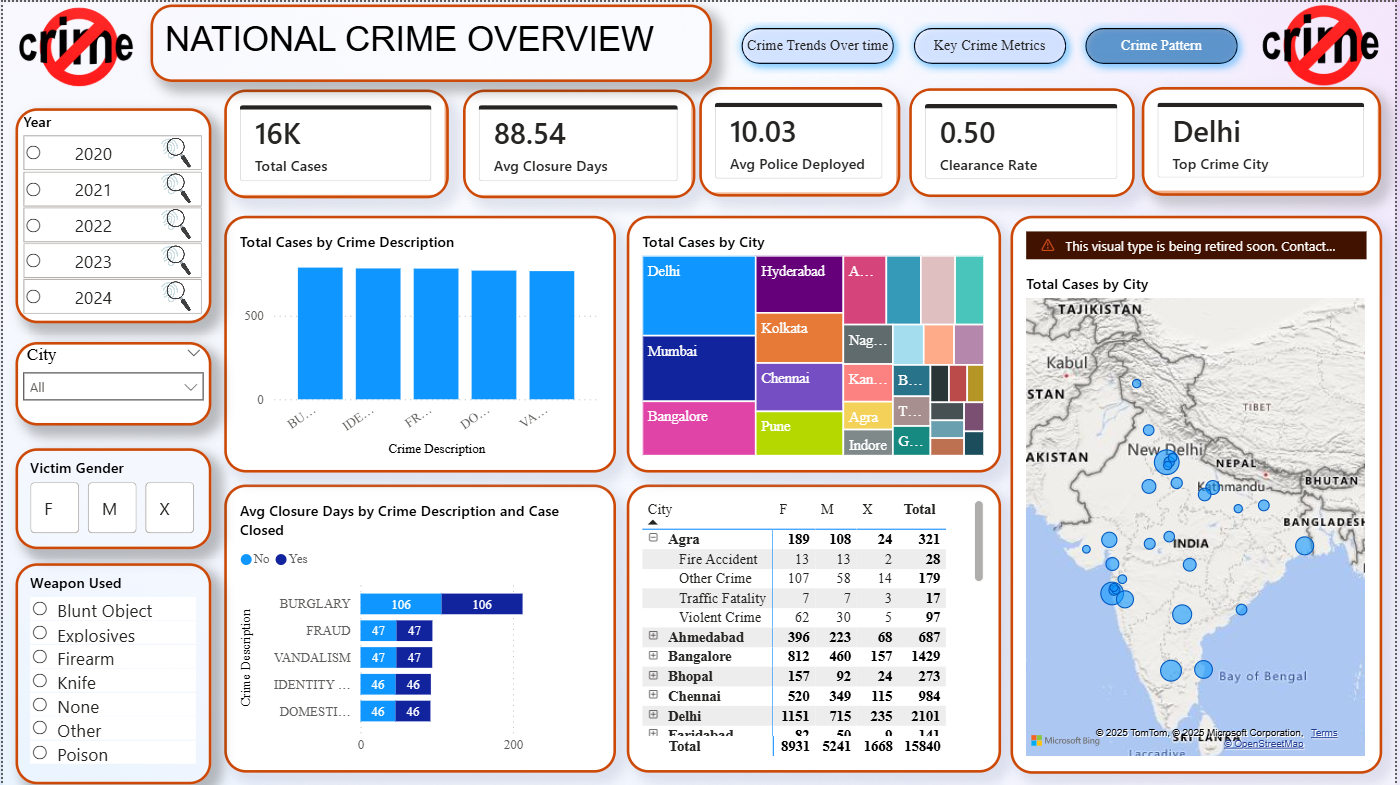

This screenshot's page, from the dashboard's own definition file:
{"tool":"powerbi","page":{"name":"Crime Pattern","canvas":[1280,720],"ordinal":2},"visuals":[{"type":"barChart","fields":{"Category":["crime_dataset_india.Crime Description"],"Y":["crime_dataset_india.Avg Closure Days"],"Series":["crime_dataset_india.Case Closed"]},"box":[203.8,443.8,360,265],"z":0},{"type":"columnChart","fields":{"Y":["crime_dataset_india.Total Cases"],"Category":["crime_dataset_india.Crime Description"]},"box":[203.8,196.2,360,236.2],"z":1000},{"type":"pivotTable","fields":{"Rows":["crime_dataset_india.City","crime_dataset_india.Crime Domain"],"Values":["crime_dataset_india.Total Cases"],"Columns":["crime_dataset_india.Victim Gender"]},"box":[573.8,443.8,343.8,265],"z":2000},{"type":"treemap","fields":{"Group":["crime_dataset_india.City"],"Values":["crime_dataset_india.Total Cases"]},"box":[573.8,196.2,343.8,236.2],"z":3000},{"type":"map","fields":{"Category":["crime_dataset_india.City"],"Size":["crime_dataset_india.Total Cases"]},"box":[926.2,196.2,341.2,512.5],"z":4000},{"type":"image","box":[0,2.4,135.4,76.8],"z":5000},{"type":"pageNavigator","box":[669.5,14.6,474.4,51.2],"z":6000},{"type":"image","box":[1143.9,0,135.4,78],"z":7000},{"type":"listSlicer","fields":{"Values":["crime_dataset_india.Date of Occurrence.Variation.Date Hierarchy.Year"]},"box":[11.3,97.5,180.3,197.4],"z":8000},{"type":"slicer","fields":{"Values":["crime_dataset_india.City"]},"box":[11.3,311.9,180.3,77.1],"z":9000},{"type":"advancedSlicerVisual","fields":{"Values":["crime_dataset_india.Victim Gender"]},"box":[11.3,410.6,180.3,93],"z":10000},{"type":"listSlicer","fields":{"Values":["crime_dataset_india.Weapon Used"]},"box":[11.3,516.1,180.3,203],"z":11000},{"type":"cardVisual","title":"Total Cases","fields":{"Data":["crime_dataset_india.Total Cases"]},"box":[203.8,80,206.2,100],"z":12000},{"type":"cardVisual","fields":{"Data":["crime_dataset_india.Avg Closure Days"]},"box":[422.5,80,213.8,100],"z":13000},{"type":"cardVisual","fields":{"Data":["crime_dataset_india.Avg Police Deployed"]},"box":[639.7,78.3,184.9,100.9],"z":14000},{"type":"cardVisual","fields":{"Data":["crime_dataset_india.Clearance Rate"]},"box":[832.5,79.4,207.6,99.8],"z":15000},{"type":"cardVisual","fields":{"Data":["crime_dataset_india.Top Crime City"]},"box":[1046.9,78.3,220,99.8],"z":16000},{"type":"textbox","box":[135,2.5,516.2,71.2],"z":17000}]}

Visuals, with their boxes in screenshot pixels (x1, y1, x2, y2), scaled from the page's 1280x720 canvas onto the 1400x785 screenshot:
barChart - crime_dataset_india.Crime Description x crime_dataset_india.Avg Closure Days: (x1=223, y1=484, x2=617, y2=773)
columnChart - crime_dataset_india.Total Cases x crime_dataset_india.Crime Description: (x1=223, y1=214, x2=617, y2=471)
pivotTable - crime_dataset_india.City x crime_dataset_india.Crime Domain: (x1=628, y1=484, x2=1004, y2=773)
treemap - crime_dataset_india.City x crime_dataset_india.Total Cases: (x1=628, y1=214, x2=1004, y2=471)
map - crime_dataset_india.City x crime_dataset_india.Total Cases: (x1=1013, y1=214, x2=1386, y2=773)
image: (x1=0, y1=3, x2=148, y2=86)
pageNavigator: (x1=732, y1=16, x2=1251, y2=72)
image: (x1=1251, y1=0, x2=1399, y2=85)
listSlicer - crime_dataset_india.Date of Occurrence.Variation.Date Hierarchy.Year: (x1=12, y1=106, x2=210, y2=322)
slicer - crime_dataset_india.City: (x1=12, y1=340, x2=210, y2=424)
advancedSlicerVisual - crime_dataset_india.Victim Gender: (x1=12, y1=448, x2=210, y2=549)
listSlicer - crime_dataset_india.Weapon Used: (x1=12, y1=563, x2=210, y2=784)
"Total Cases" cardVisual: (x1=223, y1=87, x2=448, y2=196)
cardVisual - crime_dataset_india.Avg Closure Days: (x1=462, y1=87, x2=696, y2=196)
cardVisual - crime_dataset_india.Avg Police Deployed: (x1=700, y1=85, x2=902, y2=195)
cardVisual - crime_dataset_india.Clearance Rate: (x1=911, y1=87, x2=1138, y2=195)
cardVisual - crime_dataset_india.Top Crime City: (x1=1145, y1=85, x2=1386, y2=194)
textbox: (x1=148, y1=3, x2=712, y2=80)
